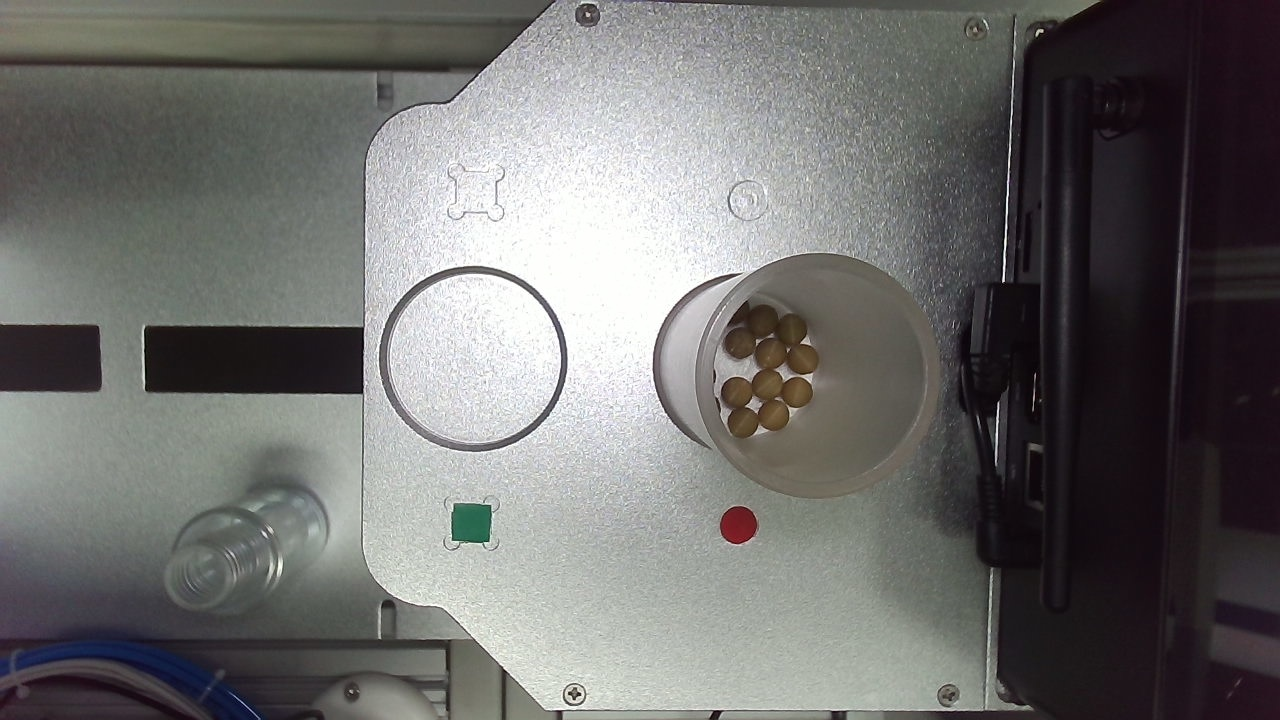XLabel: (773, 290, 807, 323)
YLabel: (554, 288, 589, 323)
none: (713, 359, 873, 521)
transparenexcept: (449, 350, 661, 561)
